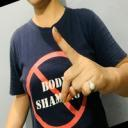hand: (51, 25, 108, 102)
